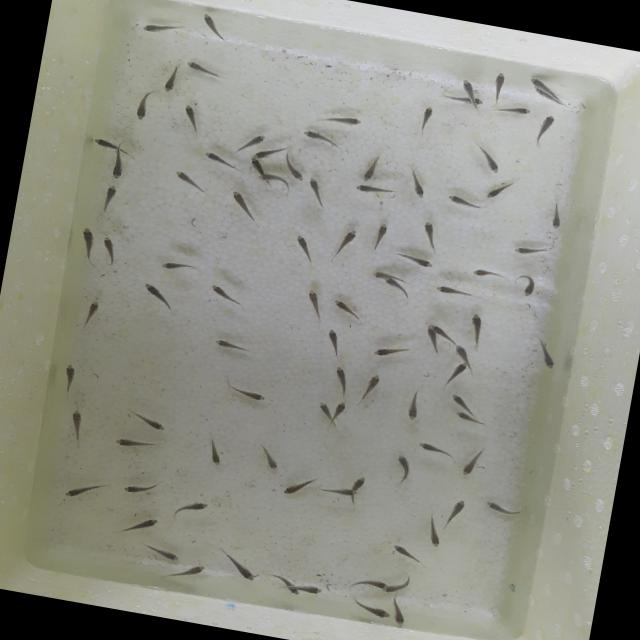fingerling: (136, 280, 186, 320), (223, 550, 262, 584), (476, 494, 523, 522), (192, 7, 230, 40), (120, 474, 167, 500), (330, 296, 368, 328), (321, 110, 376, 132), (528, 336, 562, 371), (206, 282, 248, 310), (58, 478, 100, 506), (225, 380, 272, 405), (127, 408, 172, 434), (180, 57, 227, 81), (470, 143, 506, 174), (294, 124, 340, 148), (225, 186, 258, 218), (140, 17, 180, 43), (71, 224, 100, 258), (392, 250, 438, 271), (129, 90, 159, 122), (300, 288, 328, 322), (462, 312, 487, 349), (440, 190, 480, 213), (351, 599, 394, 620), (254, 444, 284, 474), (170, 168, 204, 194), (431, 281, 475, 301), (212, 338, 256, 358), (414, 440, 454, 462), (172, 497, 212, 519), (402, 389, 427, 424), (128, 511, 160, 538), (156, 259, 203, 277), (392, 454, 420, 484), (440, 92, 486, 110), (114, 434, 160, 452), (532, 112, 556, 146), (281, 474, 315, 498), (282, 154, 311, 182), (200, 438, 228, 467), (176, 100, 203, 130), (495, 102, 535, 122), (88, 134, 128, 154), (516, 272, 542, 302), (141, 544, 184, 562), (98, 232, 120, 267), (174, 560, 209, 582), (268, 572, 300, 596), (104, 154, 131, 182), (418, 220, 445, 248), (57, 362, 82, 392), (368, 220, 392, 251), (420, 515, 444, 546), (330, 364, 353, 396), (405, 170, 431, 198), (358, 156, 386, 182), (484, 178, 514, 202), (351, 182, 396, 198), (458, 448, 482, 478), (321, 326, 346, 354), (371, 342, 406, 362), (442, 359, 466, 388), (66, 406, 88, 437), (202, 150, 236, 170), (544, 201, 566, 231), (360, 371, 380, 404), (347, 575, 391, 590), (388, 598, 410, 628), (290, 231, 314, 258), (336, 225, 358, 254), (512, 243, 549, 260), (250, 143, 280, 163), (390, 542, 420, 562), (98, 182, 121, 208), (428, 323, 459, 342), (416, 104, 438, 130), (82, 298, 104, 324), (239, 131, 269, 150), (254, 171, 292, 186), (305, 176, 326, 203), (367, 268, 407, 282), (385, 576, 410, 598), (450, 344, 472, 368), (470, 266, 502, 282), (452, 410, 484, 426), (327, 483, 359, 499), (292, 582, 323, 598), (423, 326, 442, 352), (448, 496, 469, 519), (451, 392, 475, 412), (346, 472, 370, 492), (382, 276, 408, 294), (329, 397, 350, 419), (491, 72, 507, 100), (312, 398, 336, 416), (458, 78, 479, 98), (163, 67, 179, 93), (528, 76, 554, 92), (248, 158, 268, 174)
